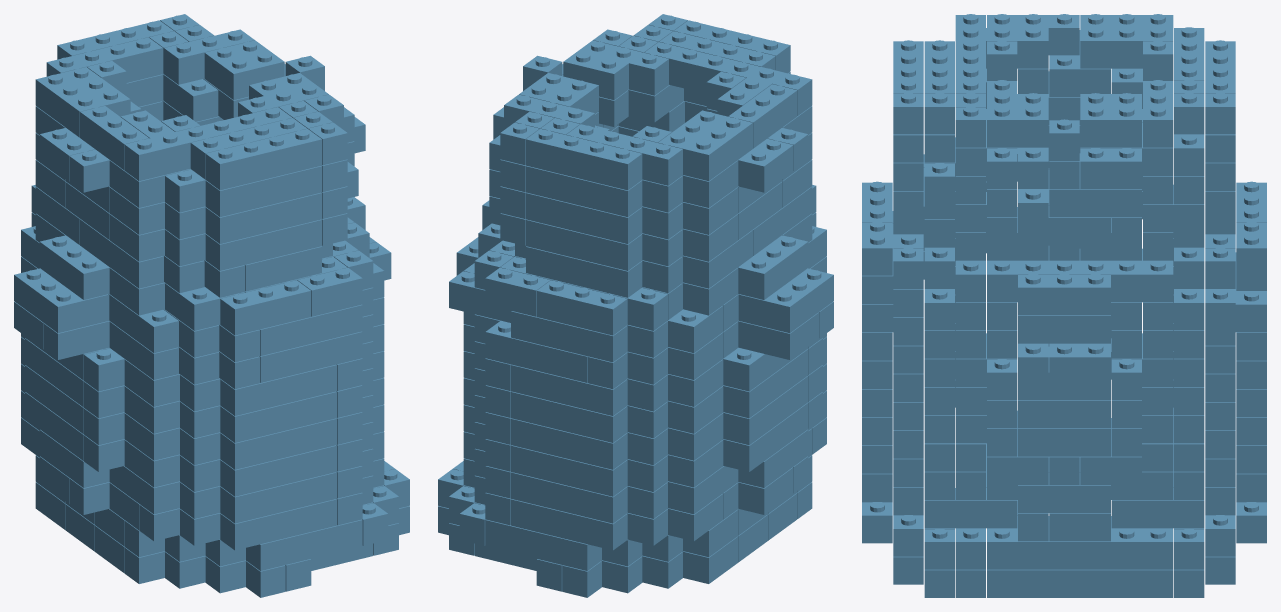
Rendered from 012_basket_L2.glb.
The picture shows the model from 3 angles, left to right: view 1: azimuth 30°, elevation 25°; view 2: azimuth 150°, elevation 25°; view 3: azimuth 270°, elevation 25°; orthographic projection. The views are drawn at different scales.
Size of the model in its own units: 12.98 by 16.13 by 12.98.
